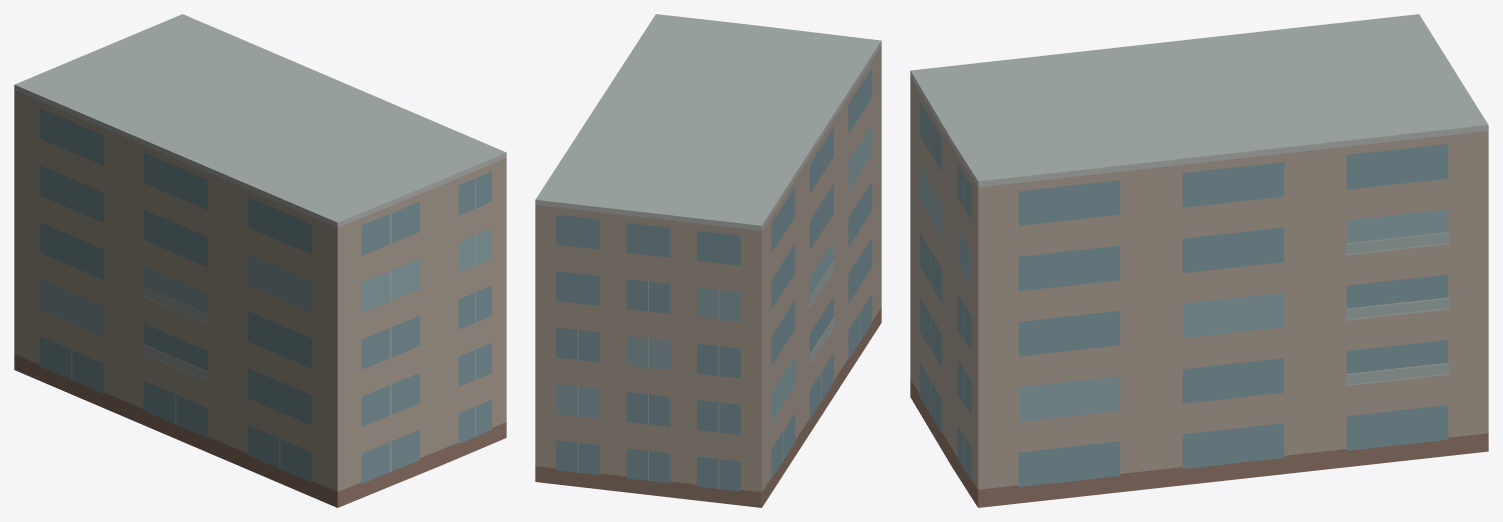
Rendered from survey-upis-32721318.glb.
3 views of the same model, side by side, from view 1: azimuth 30°, elevation 25°; view 2: azimuth 150°, elevation 25°; view 3: azimuth 270°, elevation 25° (orthographic). The views are drawn at different scales.
Visible parts, largest first — view 1: survey-upis-32721318.tmp; view 2: survey-upis-32721318.tmp; view 3: survey-upis-32721318.tmp.
Boxes of the visible parts, box(x1,y1,x2,y2) form: survey-upis-32721318.tmp: box(14, 14, 506, 507); survey-upis-32721318.tmp: box(535, 14, 881, 507); survey-upis-32721318.tmp: box(910, 14, 1488, 507).
Bounding box in the file's own units: 14.85 × 13.5 × 21.67.
